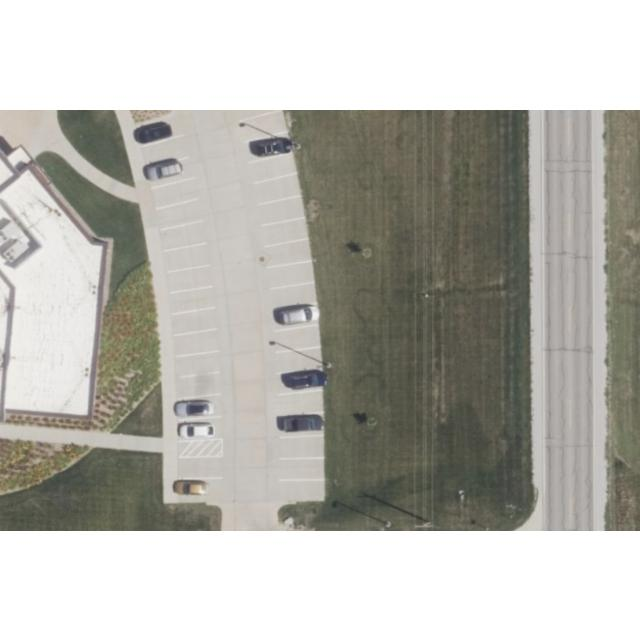Empty: (140, 133, 190, 168), (239, 109, 288, 142), (156, 197, 203, 230), (151, 177, 199, 209), (255, 172, 302, 204), (249, 152, 297, 183), (258, 195, 306, 225), (161, 220, 207, 250), (265, 238, 312, 267), (169, 285, 215, 314), (171, 307, 218, 335), (164, 242, 209, 271), (167, 264, 212, 293), (275, 324, 321, 352), (262, 218, 308, 246), (276, 346, 323, 373), (271, 282, 318, 309), (174, 328, 219, 356), (175, 351, 221, 378), (269, 261, 315, 288), (176, 372, 221, 399), (279, 389, 324, 415), (177, 457, 222, 480), (280, 458, 324, 480), (280, 480, 324, 500), (280, 436, 324, 456)
Parked: (134, 112, 186, 147), (145, 156, 196, 188), (245, 130, 293, 163), (272, 302, 319, 332), (278, 367, 323, 395), (279, 411, 325, 438), (177, 394, 223, 420), (175, 477, 222, 502), (178, 416, 223, 441)
